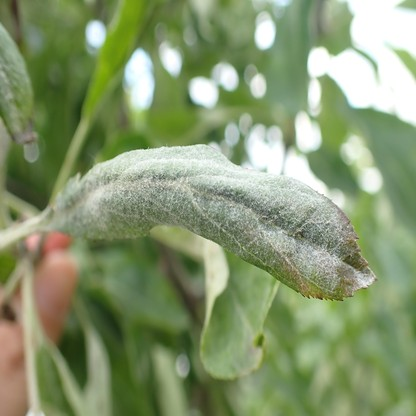powdery_mildew: (52, 144, 378, 303)
